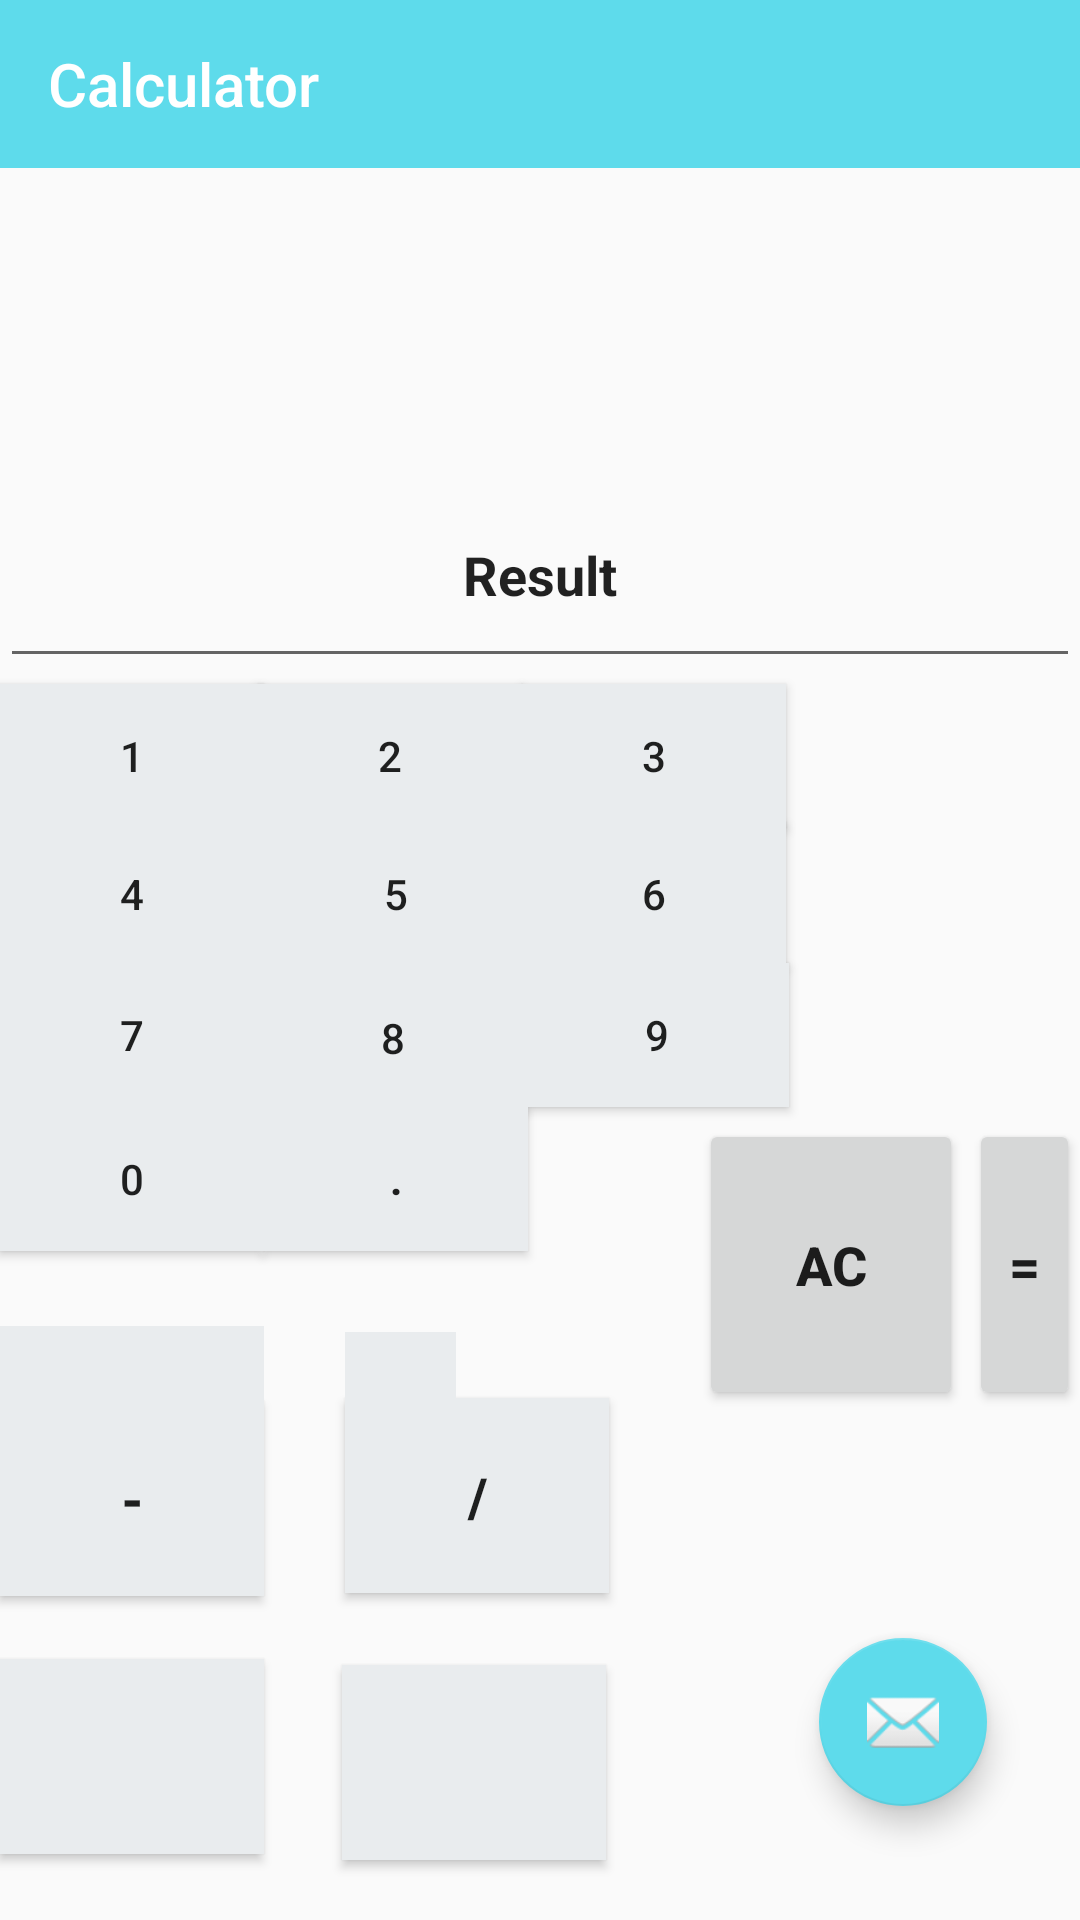

Icon click points for this 1080w x 1920h phone screenshot, format (x=x, y=y):
email: (x=903, y=1722)
